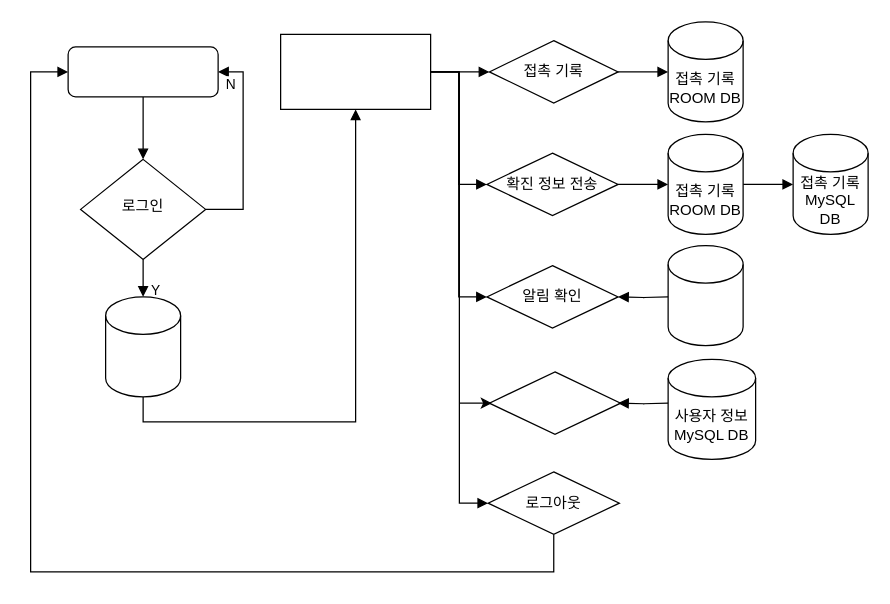
This 890x604 diagram has some shape labels left out. The centre of each missing label's shape, as x and y in pixels:
FCM MySQL DB: pixel 705 295
사용자 MySQL DB: pixel 142 346
옵션 선택: pixel 355 71
위험도 확인: pixel 554 402
프로그램 실행: pixel 142 71
